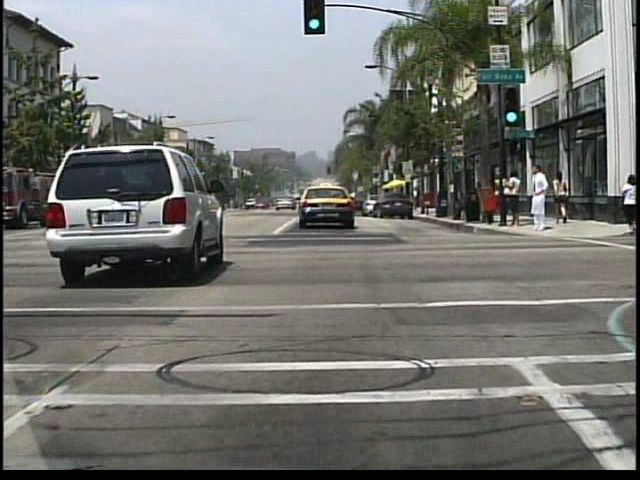person: (529, 165, 550, 232), (618, 174, 639, 238), (505, 167, 523, 231), (551, 170, 569, 226), (411, 186, 421, 213)
